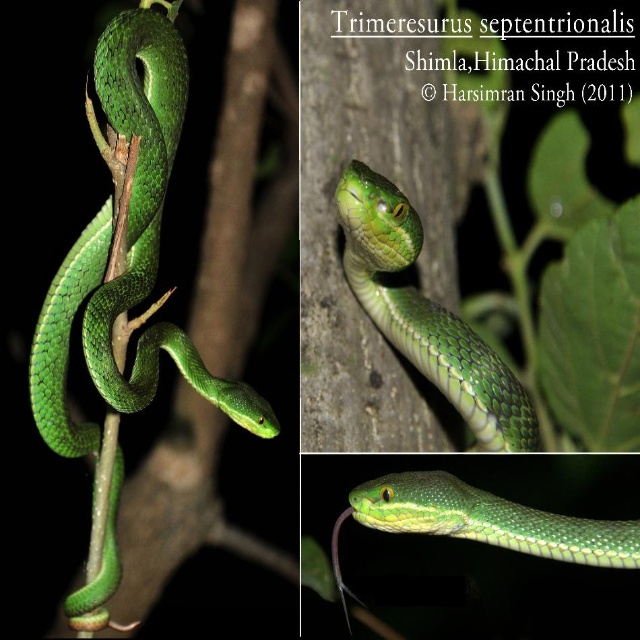Snake: (29, 8, 280, 632), (335, 159, 540, 452), (332, 470, 640, 635)
